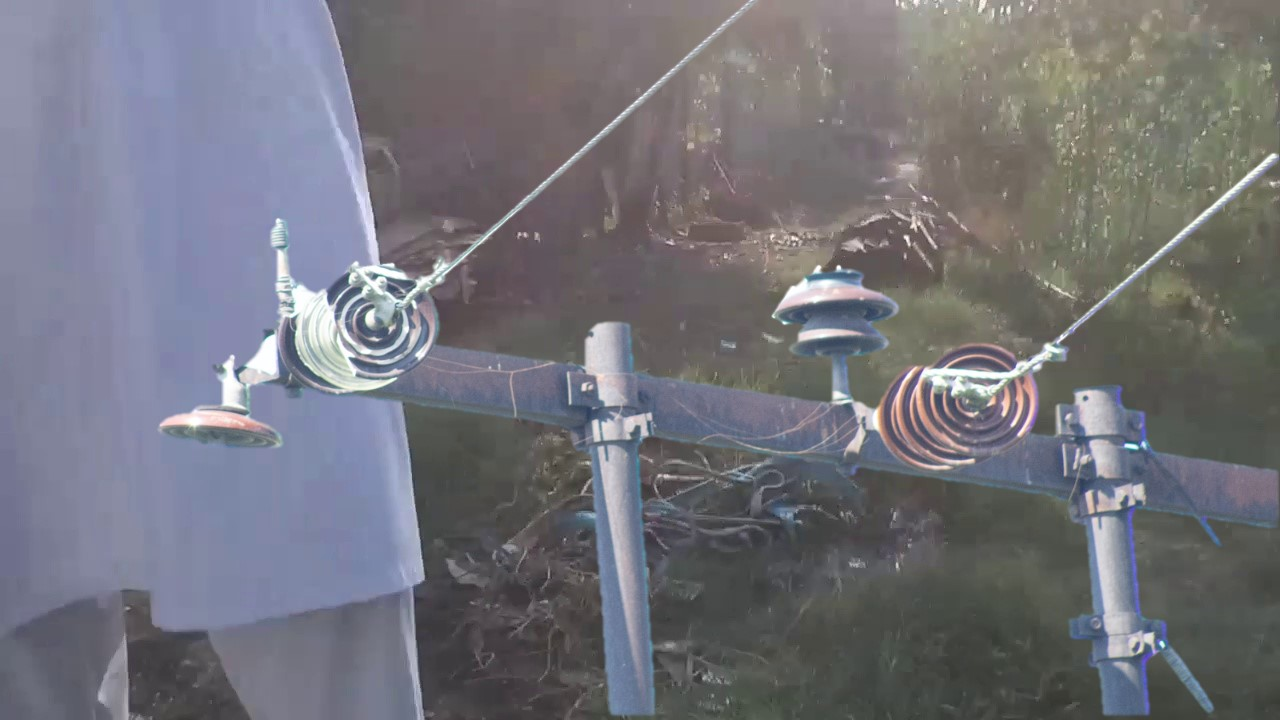defect_disc: (321, 256, 441, 385)
insulator_disc: (915, 340, 1040, 459), (153, 401, 286, 452)
